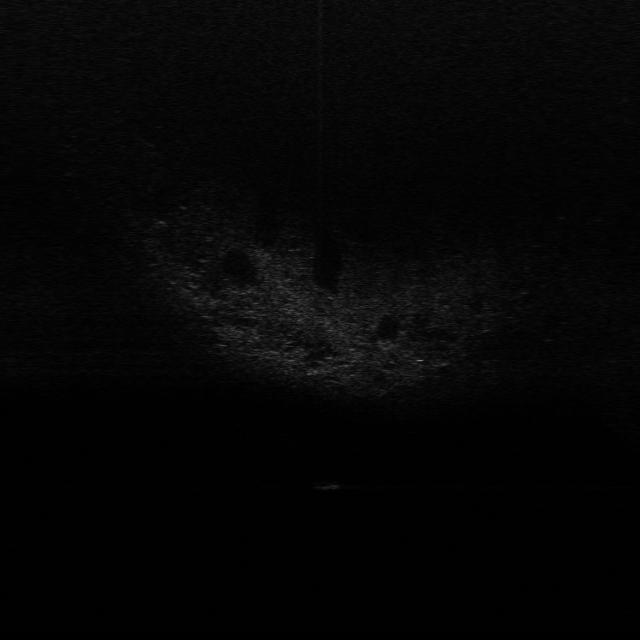cube: (310, 477, 346, 492)
